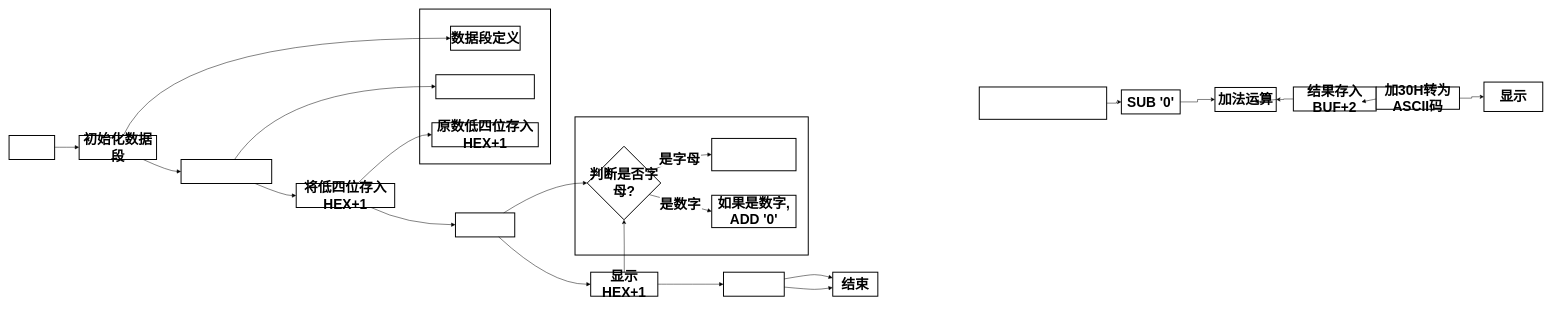
Image size: 1551x309. Some labels were removed from this diagram. The shapes that lost their labels are listed below. From the top down, each one's centre as x and y in pixels, then its label:
At (x=485, y=86): "原数高四位存入HEX".
At (x=1043, y=103): "输入两个一位数到BUF和BUF+1".
At (x=31, y=147): "开始".
At (x=753, y=154): "如果是字母, ADD 'A'-10".
At (x=226, y=171): "将高四位存入HEX".
At (x=485, y=224): "显示HEX".
At (x=753, y=283): "退出程序".
